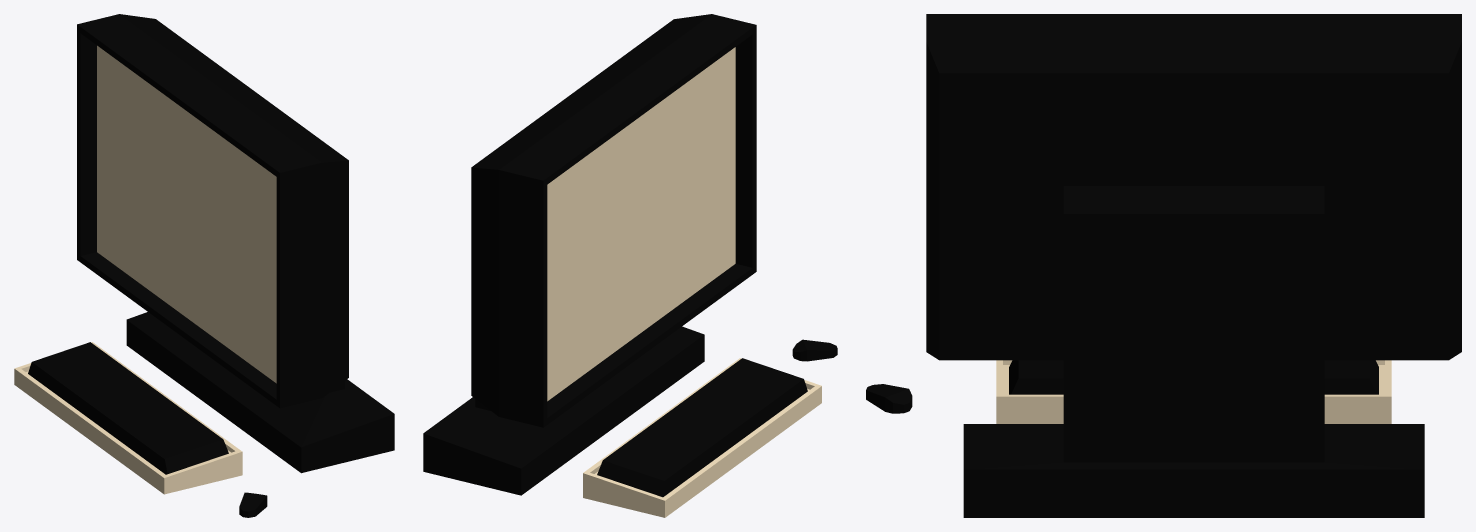
File: SM_Prop_Computer.fbx
3 views of the same model, side by side, from view 1: azimuth 30°, elevation 25°; view 2: azimuth 150°, elevation 25°; view 3: azimuth 270°, elevation 25° (orthographic). The views are drawn at different scales.
Visible parts, largest first — view 1: Computador; view 2: Computador; view 3: Computador.
Boxes of the visible parts, x1=… form: Computador: x1=14, y1=14, x2=394, y2=517; Computador: x1=423, y1=14, x2=837, y2=517; Computador: x1=866, y1=14, x2=1461, y2=517.
Bounding box in the file's own units: 128 × 180 × 230.
